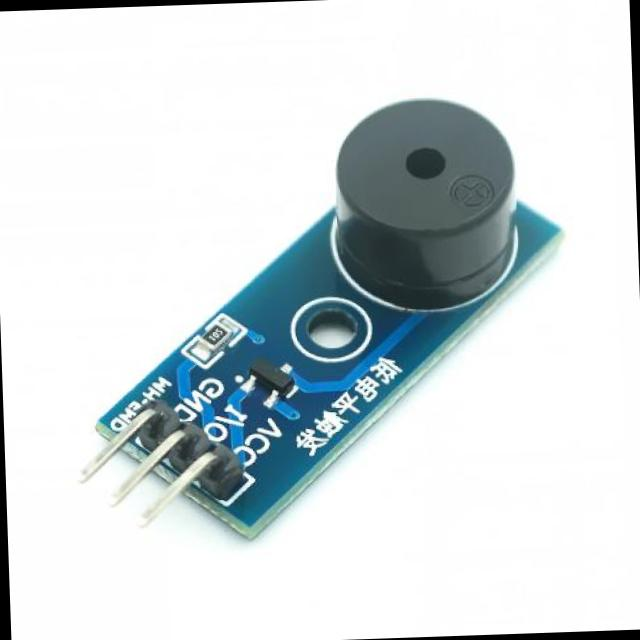connector: (70, 396, 256, 522)
resistor: (189, 317, 235, 363)
transistor: (241, 354, 299, 405)
